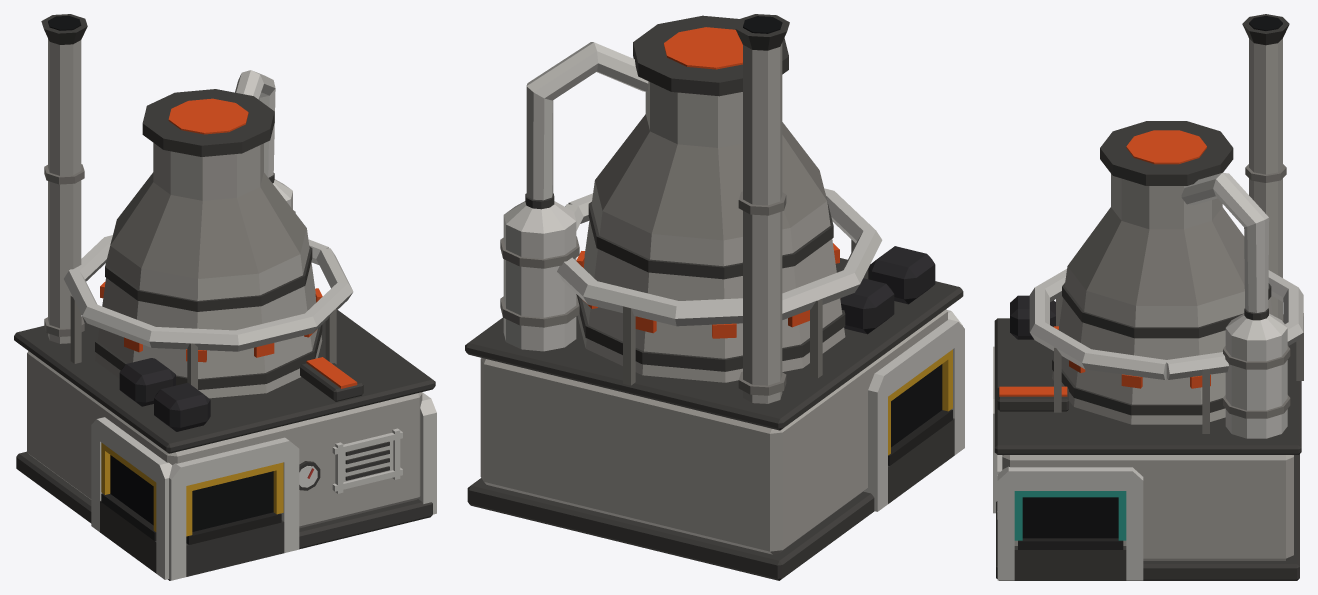
Rendered from blast.fbx.
3 views of the same model, side by side, from view 1: azimuth 30°, elevation 25°; view 2: azimuth 150°, elevation 25°; view 3: azimuth 270°, elevation 25° (orthographic). The views are drawn at different scales.
Parts seen in each view (by area): view 1: blast; view 2: blast; view 3: blast.
Boxes of the visible parts, bbox=[...] form: blast: bbox=[14, 14, 436, 580]; blast: bbox=[465, 14, 964, 580]; blast: bbox=[993, 14, 1303, 580].
Size of the model in its own units: 6 by 9.53 by 6.01.
